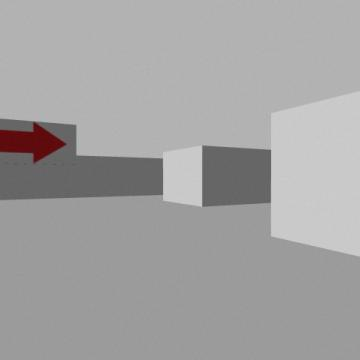red_right: (0, 122, 66, 163)
